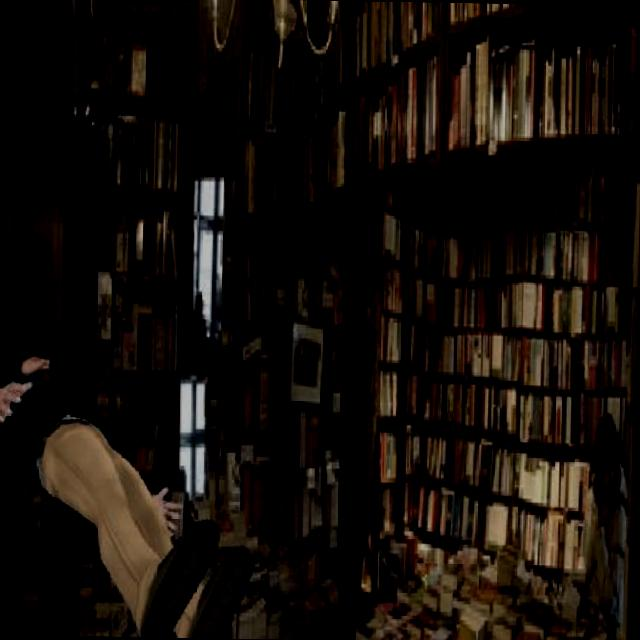Person: (0, 347, 261, 638)
